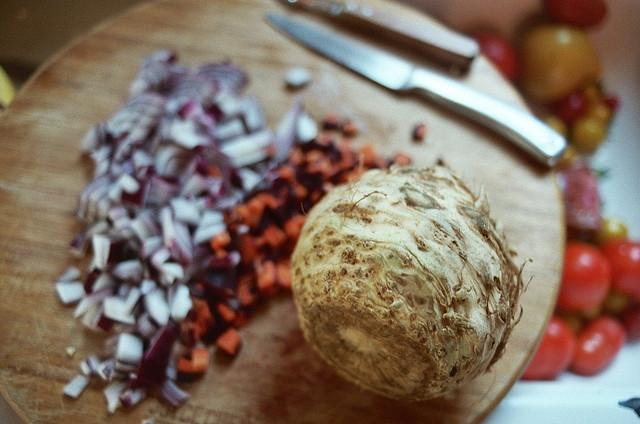tomato: (520, 22, 598, 106), (555, 243, 614, 315), (520, 314, 576, 380), (569, 314, 627, 376), (466, 27, 523, 86), (600, 236, 640, 300), (542, 0, 610, 35), (568, 115, 608, 157), (548, 88, 591, 127), (618, 304, 640, 344), (596, 219, 627, 247), (602, 289, 632, 317), (541, 114, 568, 137), (585, 104, 612, 127), (608, 96, 618, 110)
